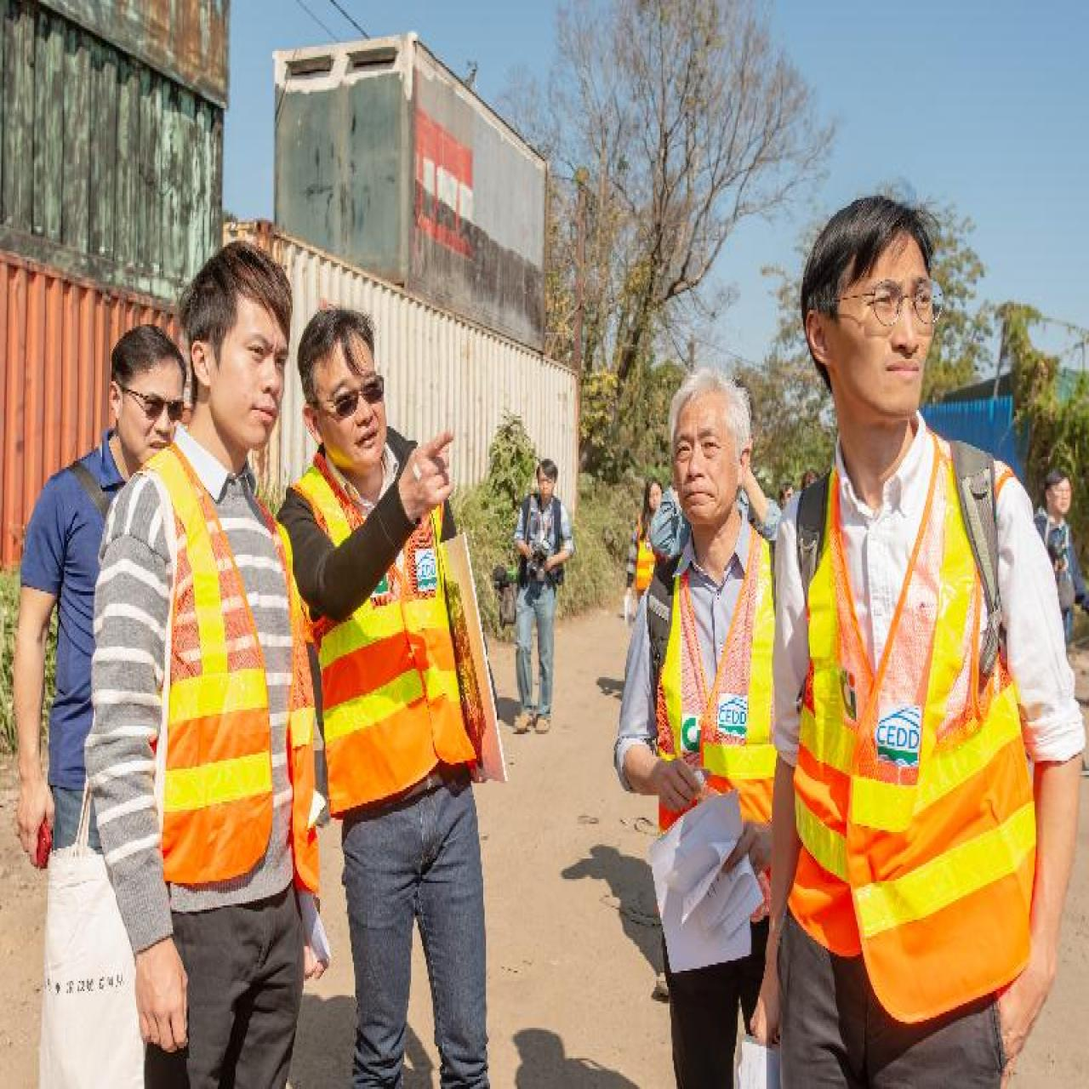NO_Safety_Vest: (518, 490, 567, 584), (1036, 509, 1077, 604)
Person: (751, 171, 1089, 1089), (90, 244, 349, 1079), (277, 293, 492, 1089), (15, 317, 203, 1089), (617, 371, 795, 1086), (512, 456, 580, 735), (1033, 469, 1088, 655), (620, 470, 669, 628)
Safety_Vest: (784, 426, 1049, 1015), (101, 443, 327, 926), (295, 451, 480, 815), (636, 511, 794, 933), (633, 524, 655, 594)
